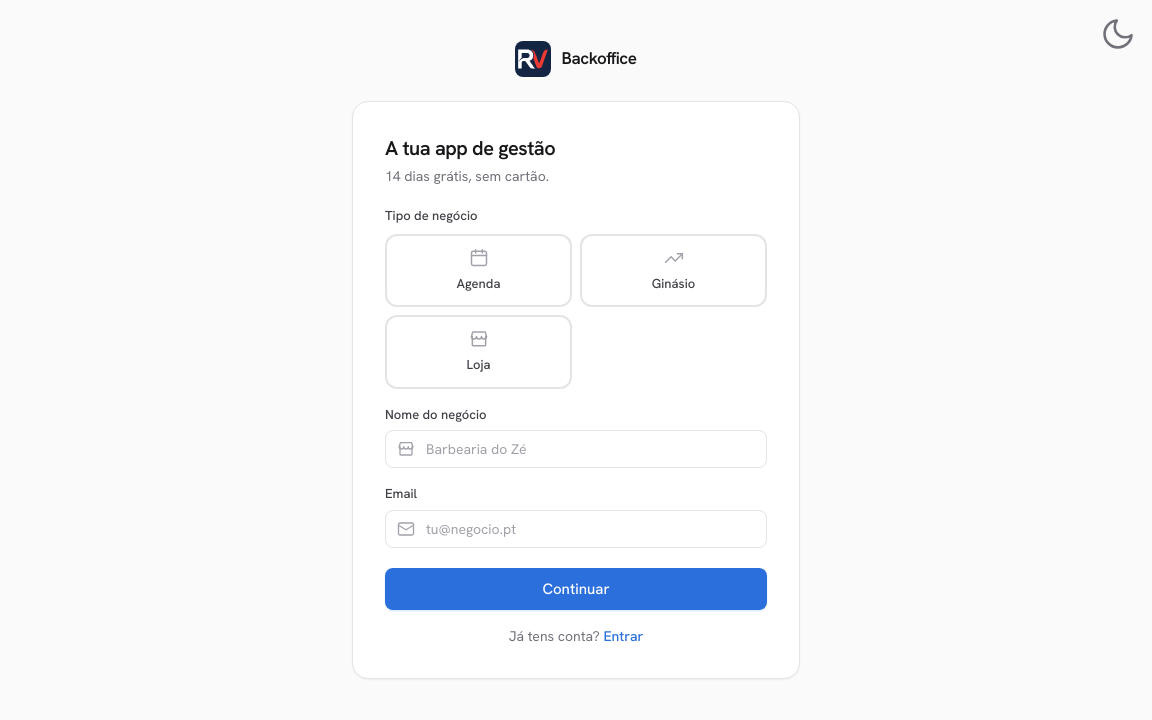
Signup — passo 1 (negócio) › valida campos antes de avançar para o passo 2
The width and height of the screenshot is (1152, 720).
Click the button "Continuar": (576,589) [385, 568, 767, 610]
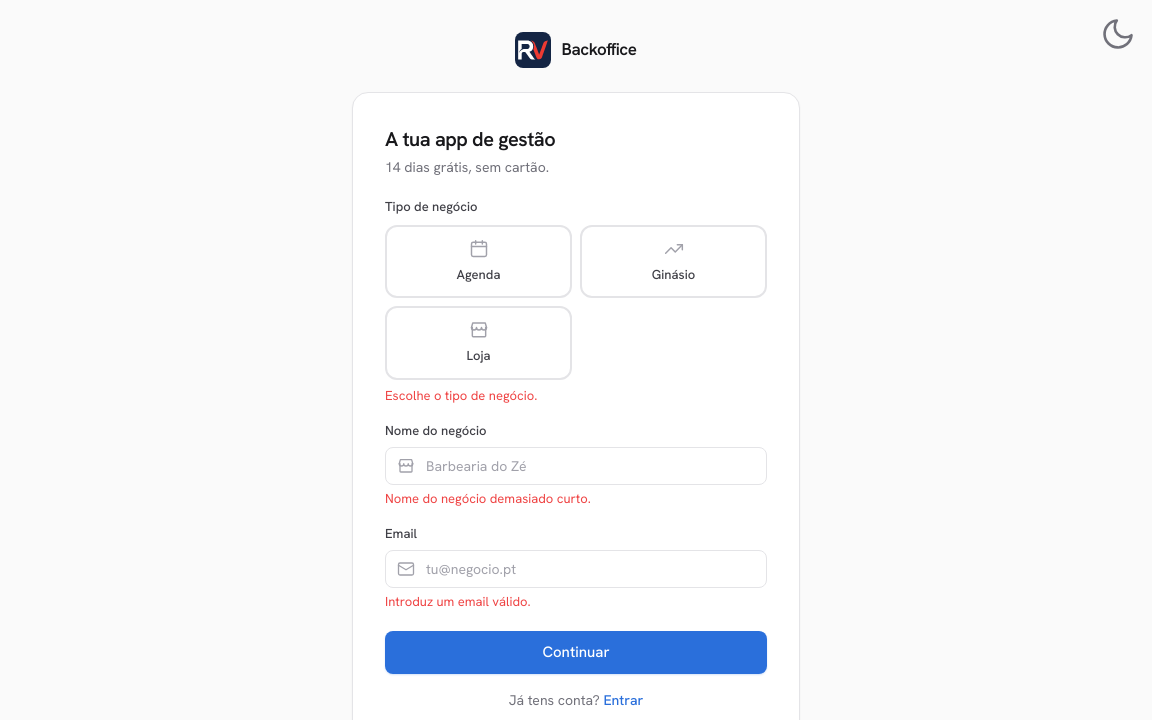
expect the text "Escolhe o tipo de negócio." is shown: met, box [385, 386, 537, 404]
expect the text "Nome do negócio demasiado curto." is shown: met, box [385, 490, 591, 506]
expect the text "Introduz um email válido." is shown: met, box [385, 592, 531, 610]
